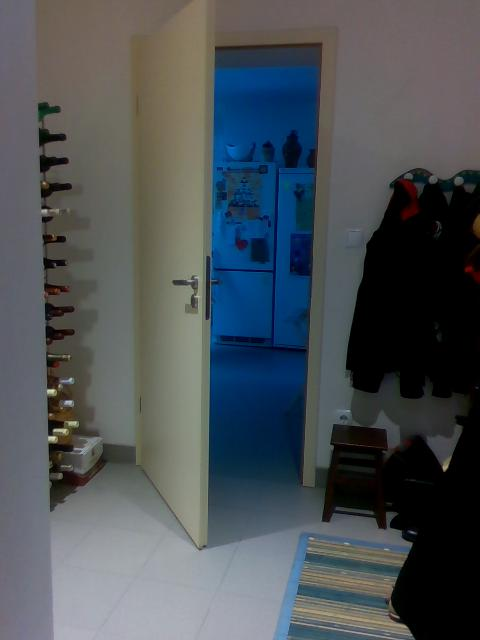semi_door: (134, 2, 338, 549)
